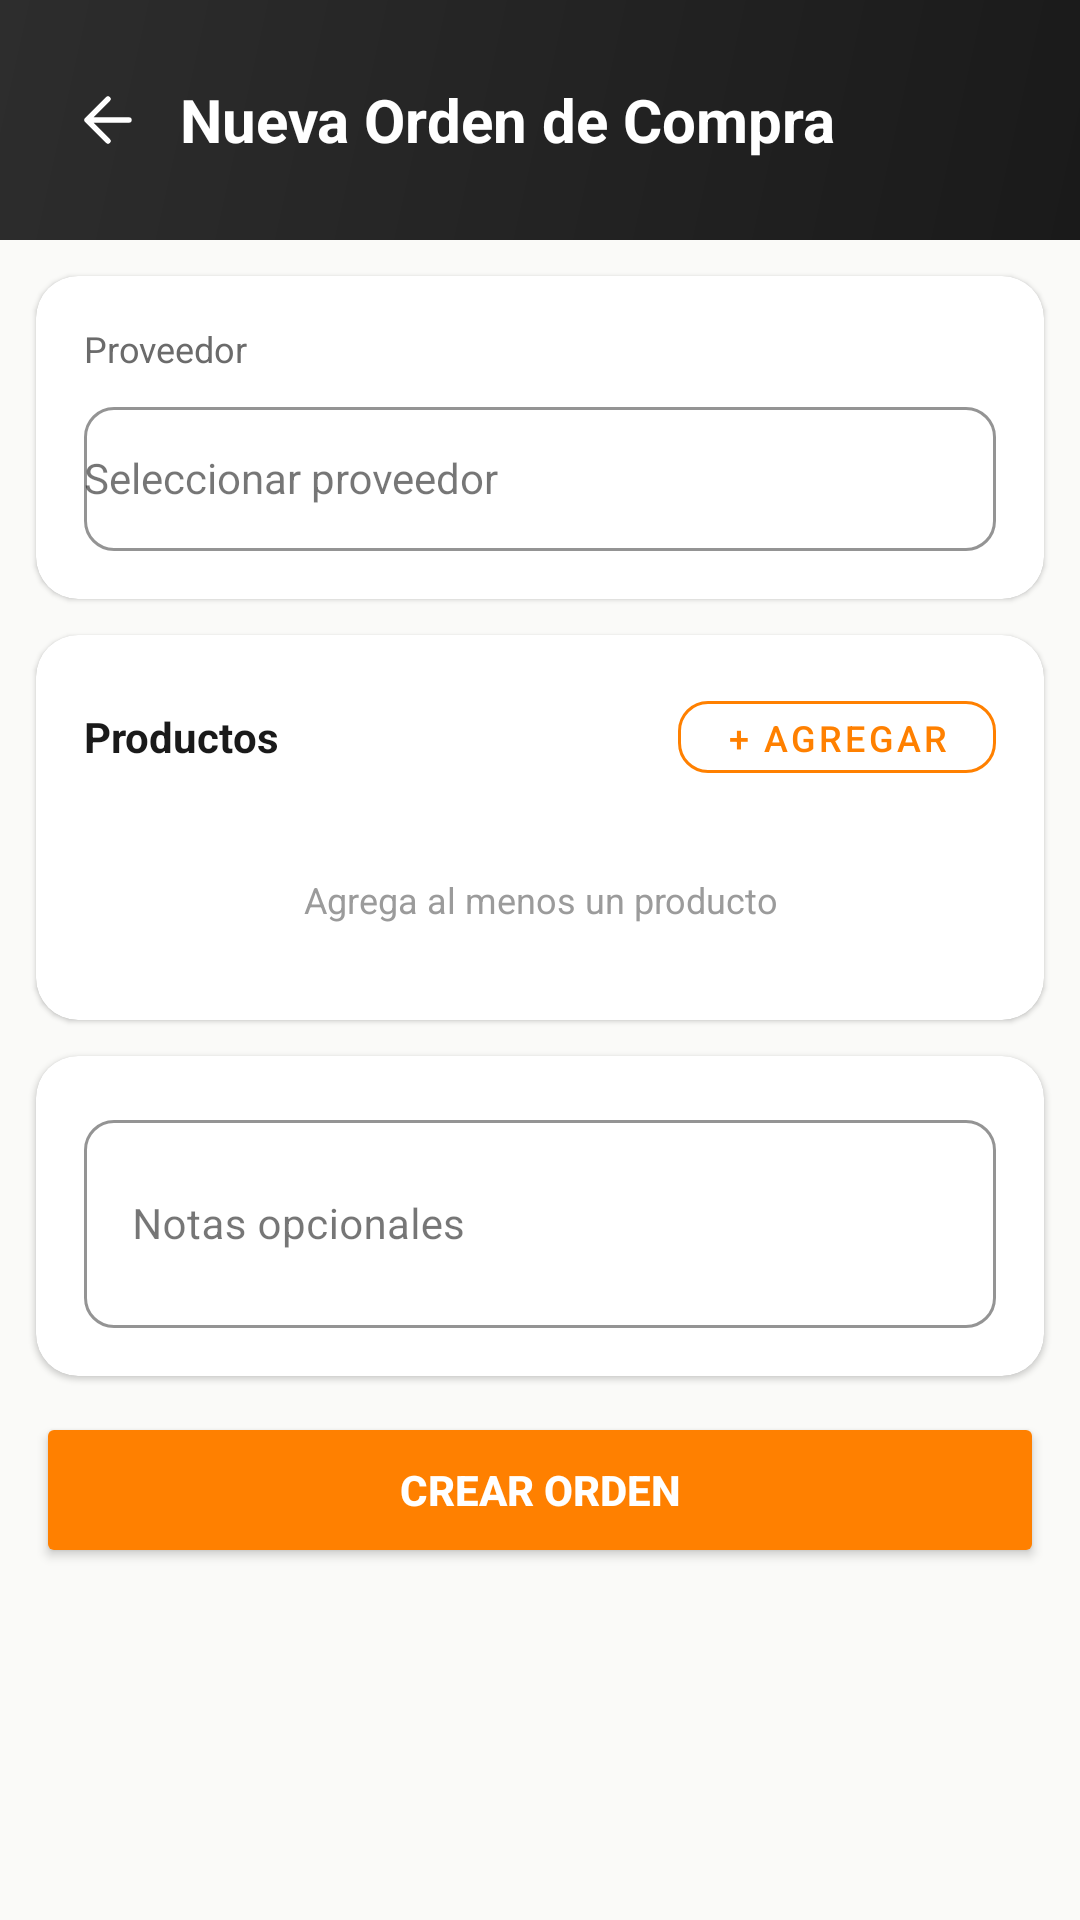

Named icons in this screenshot (1080×1920) and their bounding boxes, (x1, y1, x2, y2):
Volver: (84, 96, 132, 144)
